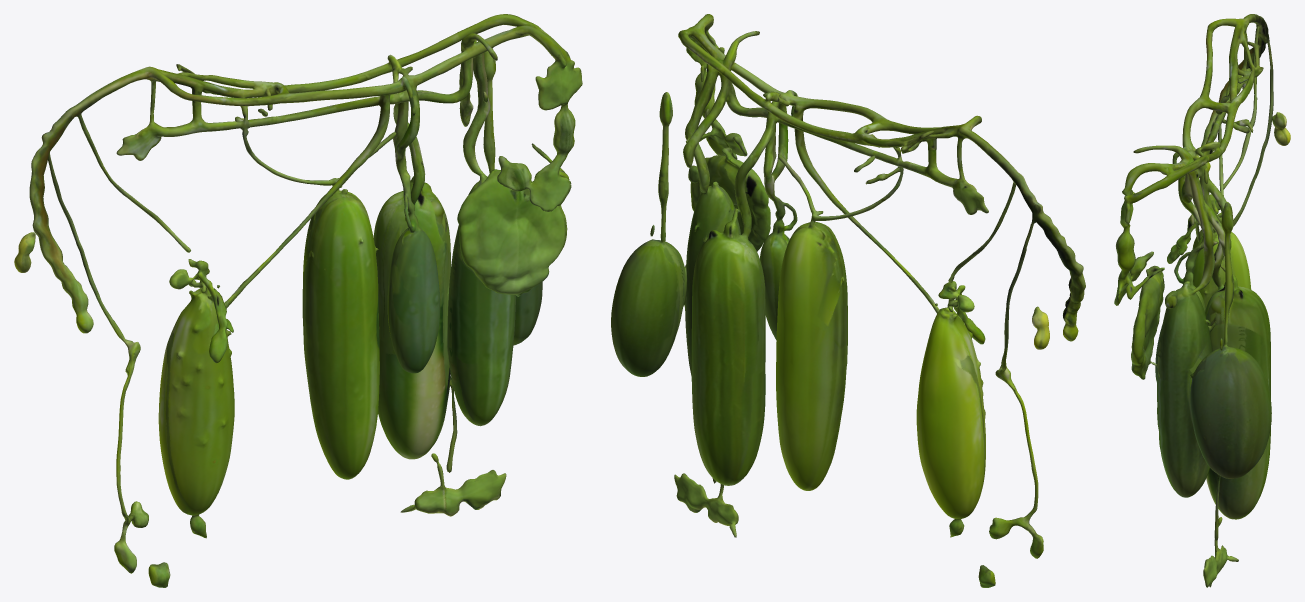
The model's file is creeper0049.gltf.
The picture shows the model from 3 angles, left to right: view 1: azimuth 30°, elevation 25°; view 2: azimuth 150°, elevation 25°; view 3: azimuth 270°, elevation 25°; orthographic projection. The views are drawn at different scales.
Parts seen in each view (by area): view 1: Mesh_0.002; view 2: Mesh_0.002; view 3: Mesh_0.002.
Part boxes in pixels (<box>): Mesh_0.002: <box>14,14,582,587</box>; Mesh_0.002: <box>611,14,1085,587</box>; Mesh_0.002: <box>1114,14,1290,587</box>.
Size of the model in its own units: 2 by 1.94 by 0.7026.
1 material, 1 textured.
